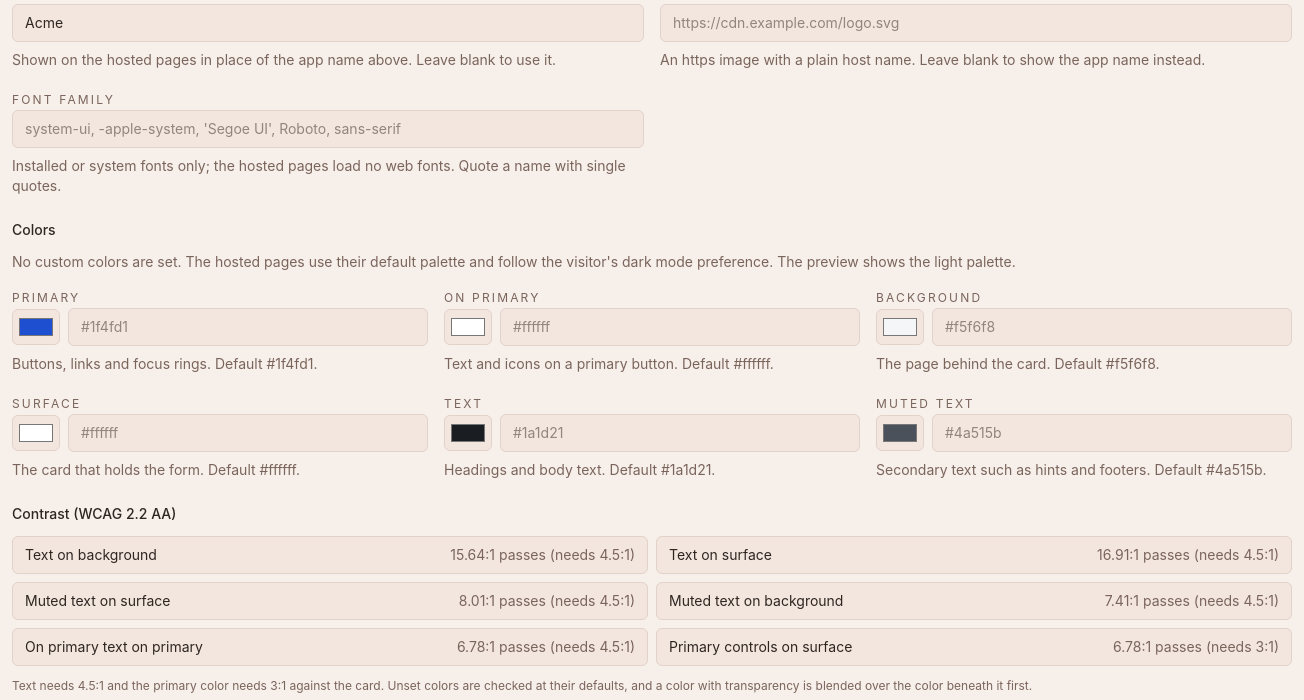
it: HostedUiBrandingEditor › undoes unsaved edits
Replace the text in the field labelled "Brand Name" with "Other": (328, 23) [12,4,644,42]
(page scrolled)
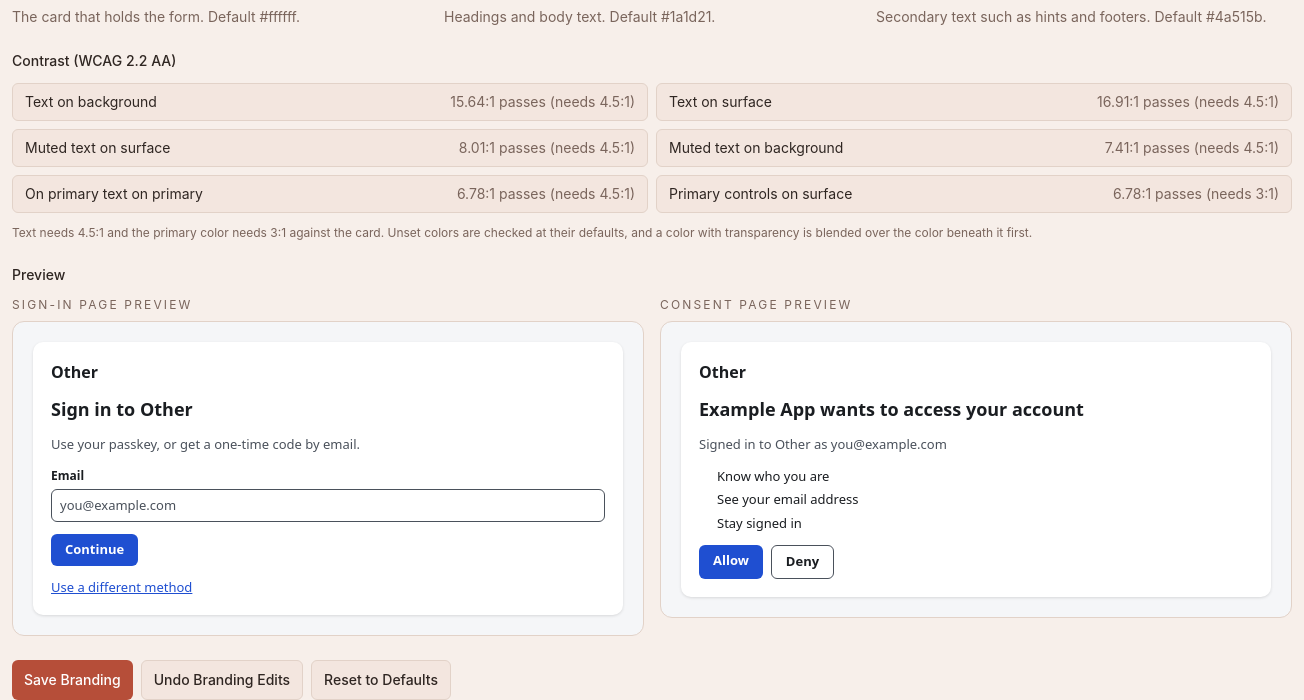
Click the button "Undo Branding Edits": click(222, 680) [141,660,303,699]
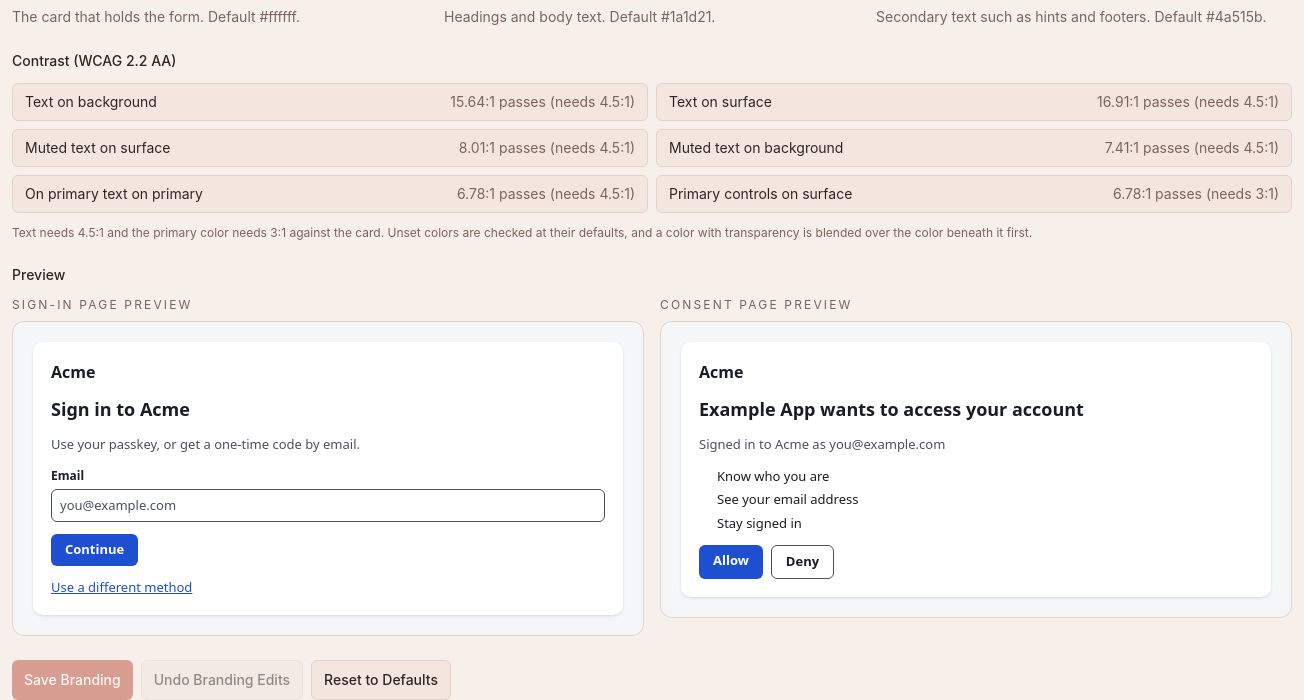
Check: the button "Save Branding" is disabled, box [12,660,133,699]
